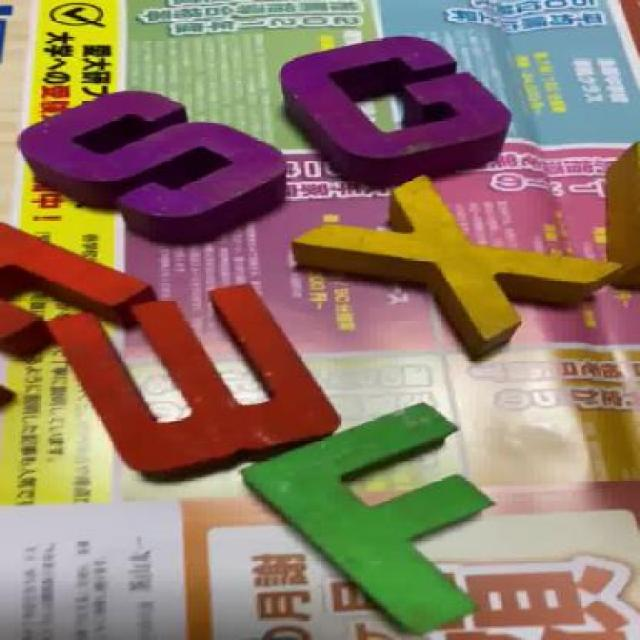F: (270, 408, 504, 630)
G: (284, 40, 531, 177)
S: (30, 98, 312, 253)
W: (53, 286, 324, 485)
X: (309, 184, 613, 342)
